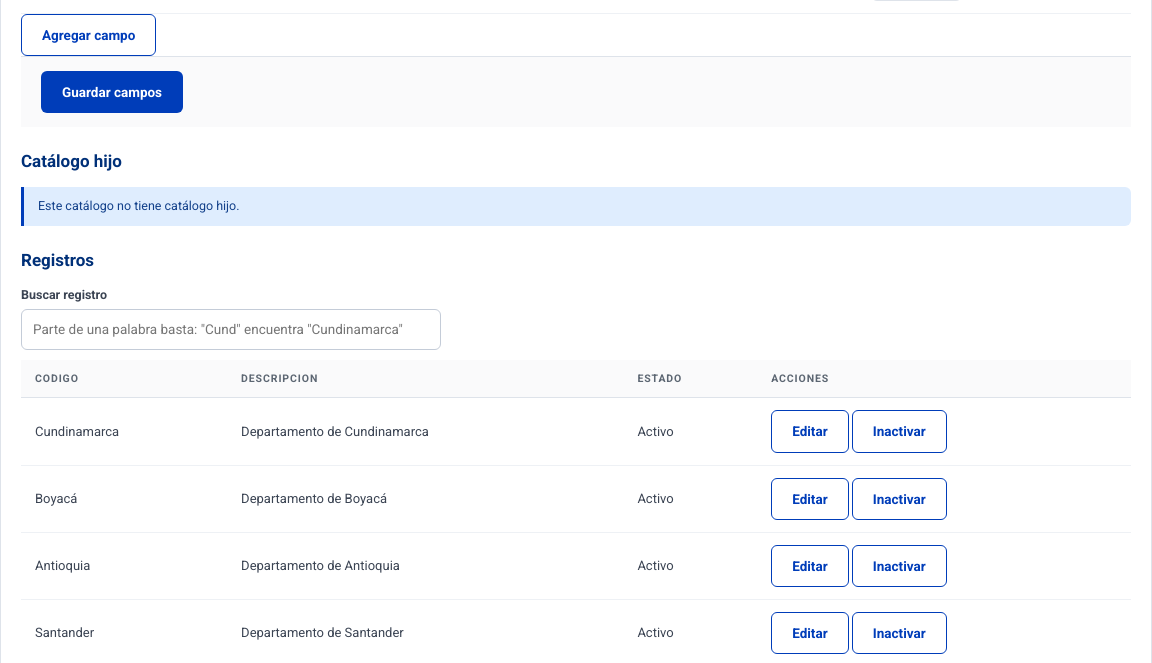
Test: búsqueda en catálogos y registros › no distingue tildes ni mayúsculas, y busca en cualquier columna
(page scrolled)
Expected: the text "Boyacá" is shown, 21,465 -> 227,532
Type "BOYACA" into the search field labelled "Buscar registro". click: (231, 329)
box: 21,309 -> 441,350
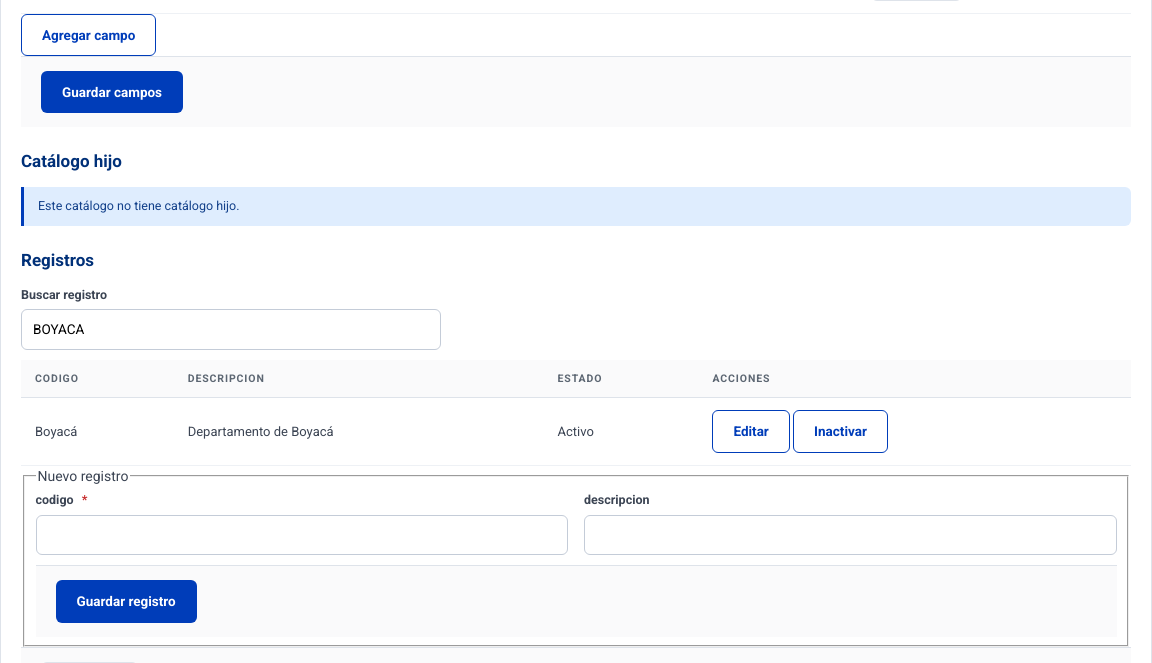
Expected: the text "Boyacá" is shown, 21,398 -> 174,465
Note: "Departamento de ..." sólo está en la segunda columna.
Replace the text in the search field labelled "Buscar registro" with "departamento de anti". click: (231, 329)
box: 21,309 -> 441,350
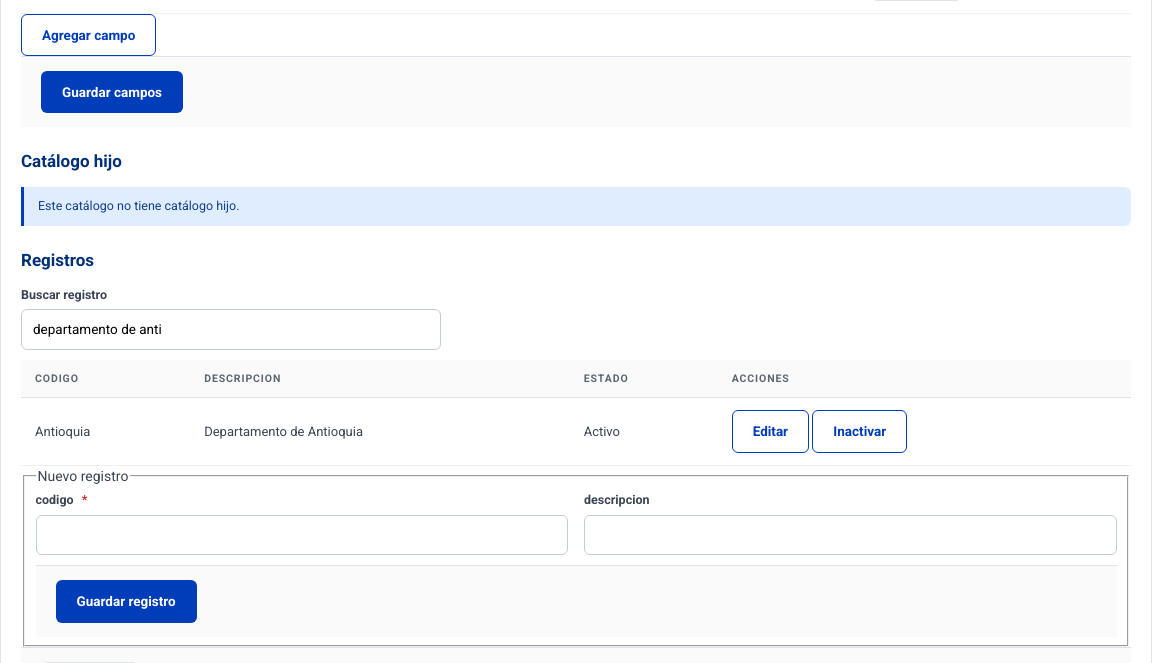
Expected: the text "Antioquia" is shown, 21,398 -> 190,465
Expected: the text "Boyacá" is gone
